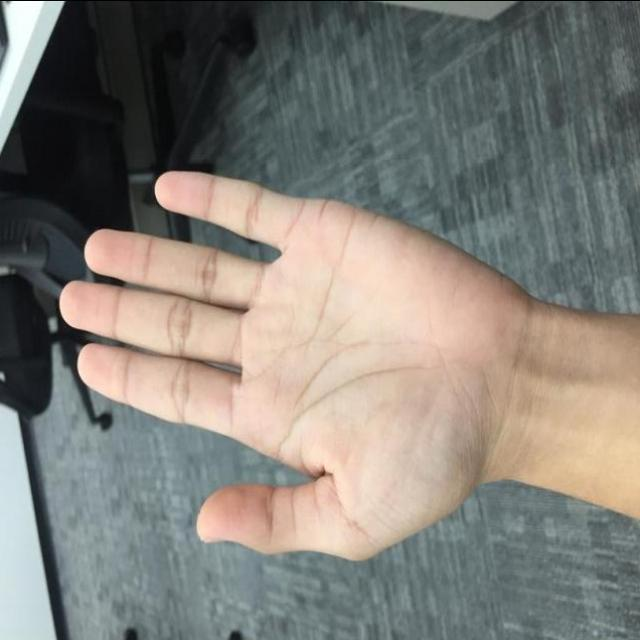hand: (58, 167, 533, 563)
